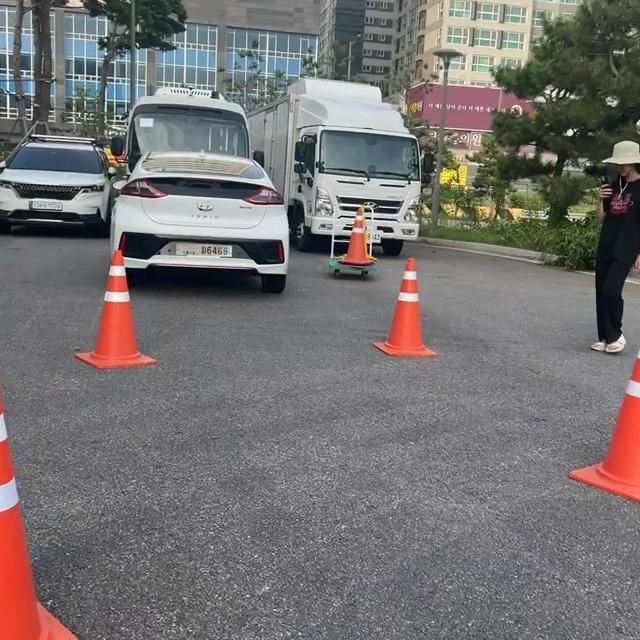fallen_object: (0, 353, 112, 640), (536, 300, 640, 546), (380, 232, 467, 418), (83, 237, 172, 401), (304, 175, 385, 304)
